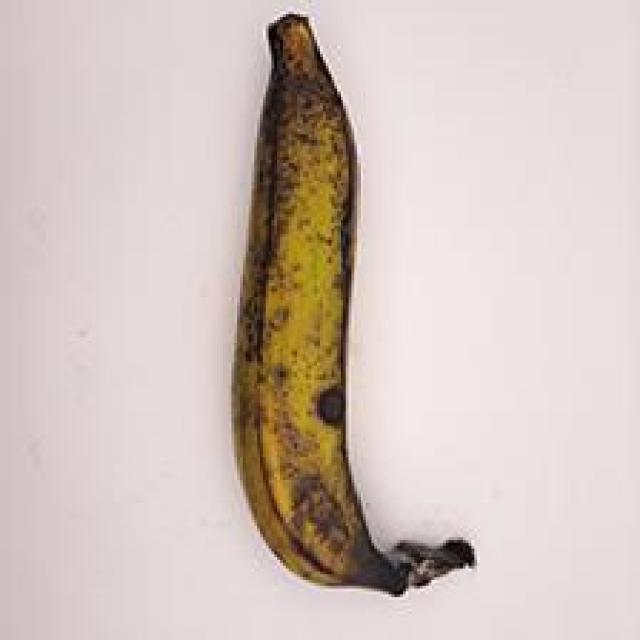Overripe: (182, 0, 492, 603)
